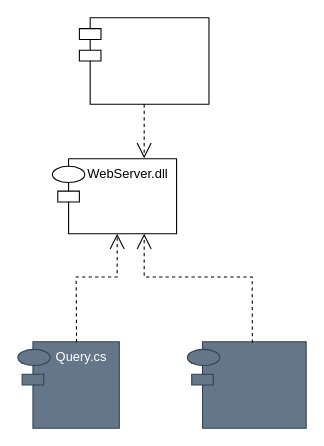
Some shapes in this 324 by 446 pixel diagram are drawn without their labels. The box of each missing label's shape, as (x1, y1, x2, y2) in pixels:
Controller.cs: (191, 341, 306, 428)
WebServer.exe: (78, 17, 209, 104)
